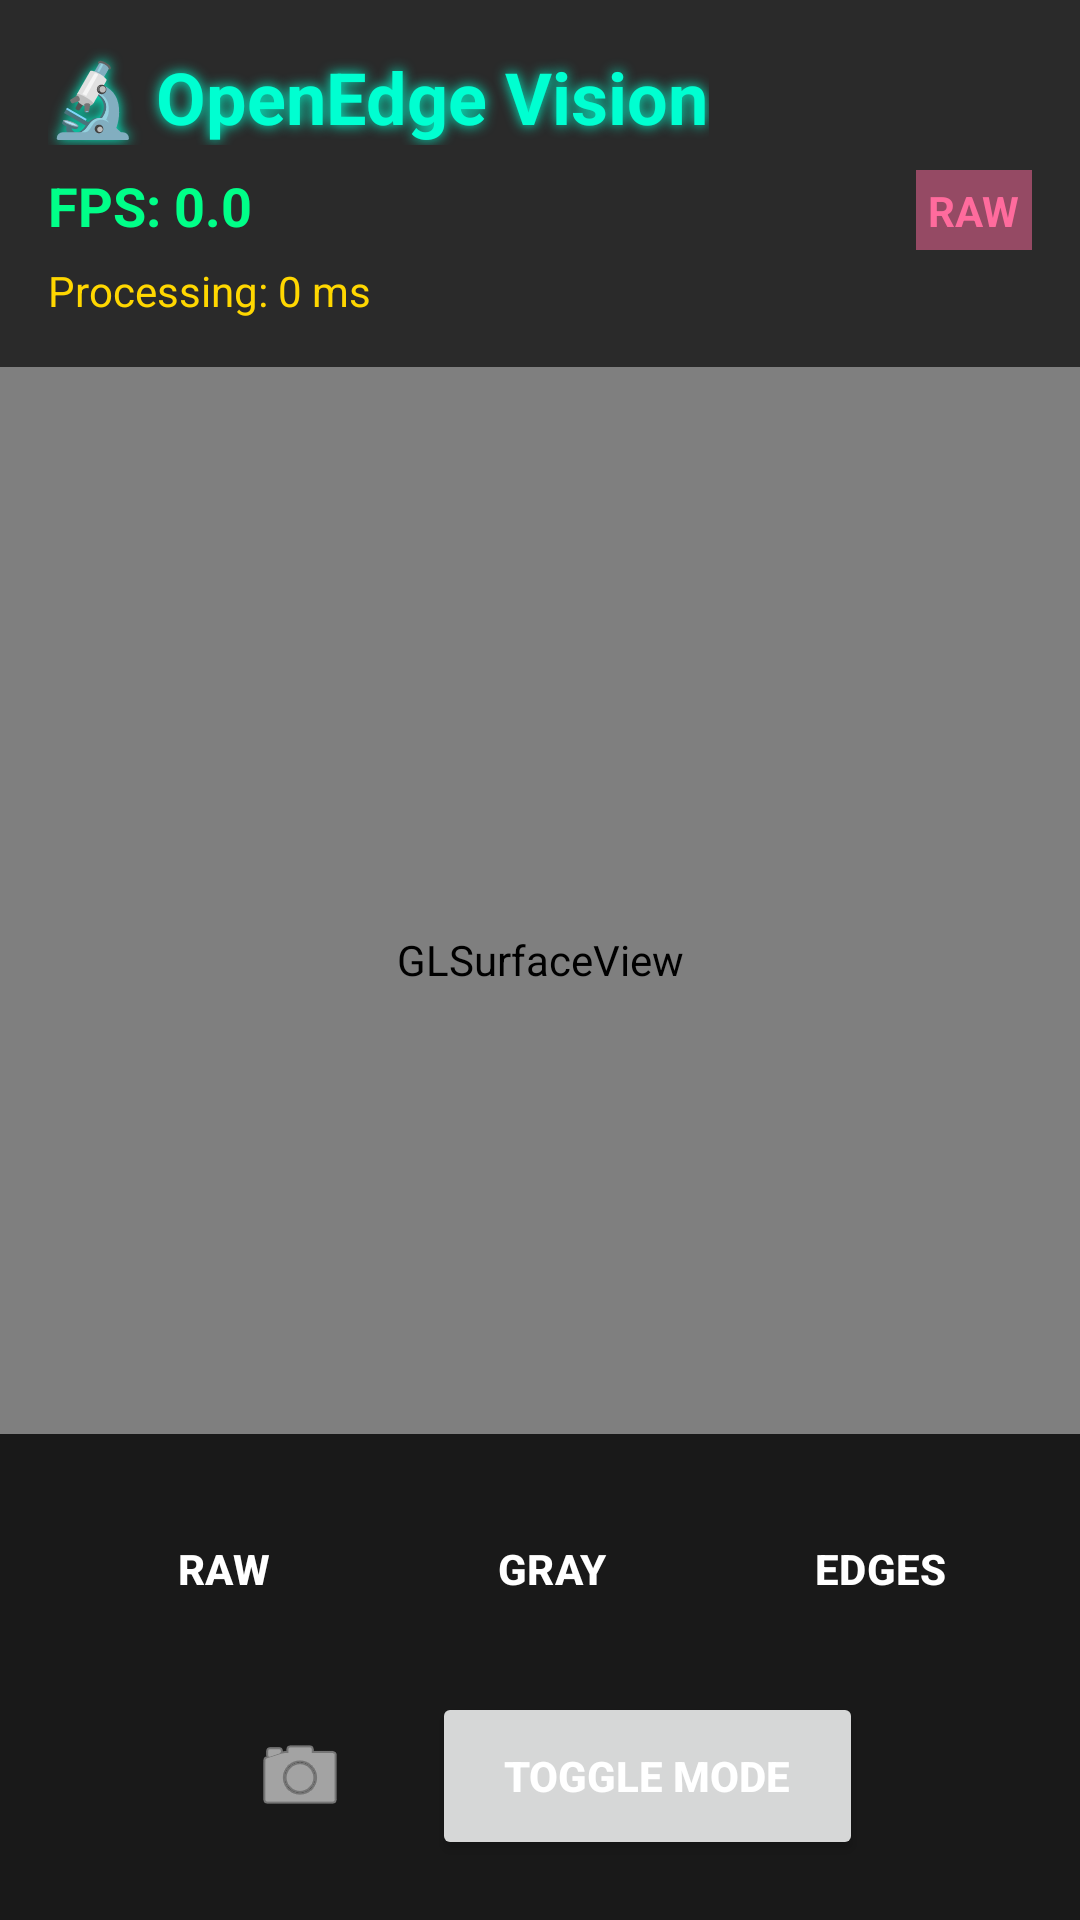

Icons on this 1080 x 1920 Android screen, each with its box as [x1=x1, y1=y1, x2=x2, y2=y2]:
Capture: [x1=263, y1=1745, x2=337, y2=1804]
